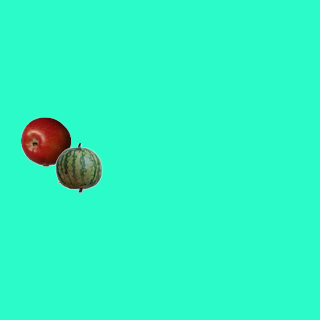Apple Braeburn: (20, 116, 70, 166)
Watermelon: (53, 142, 103, 192)
